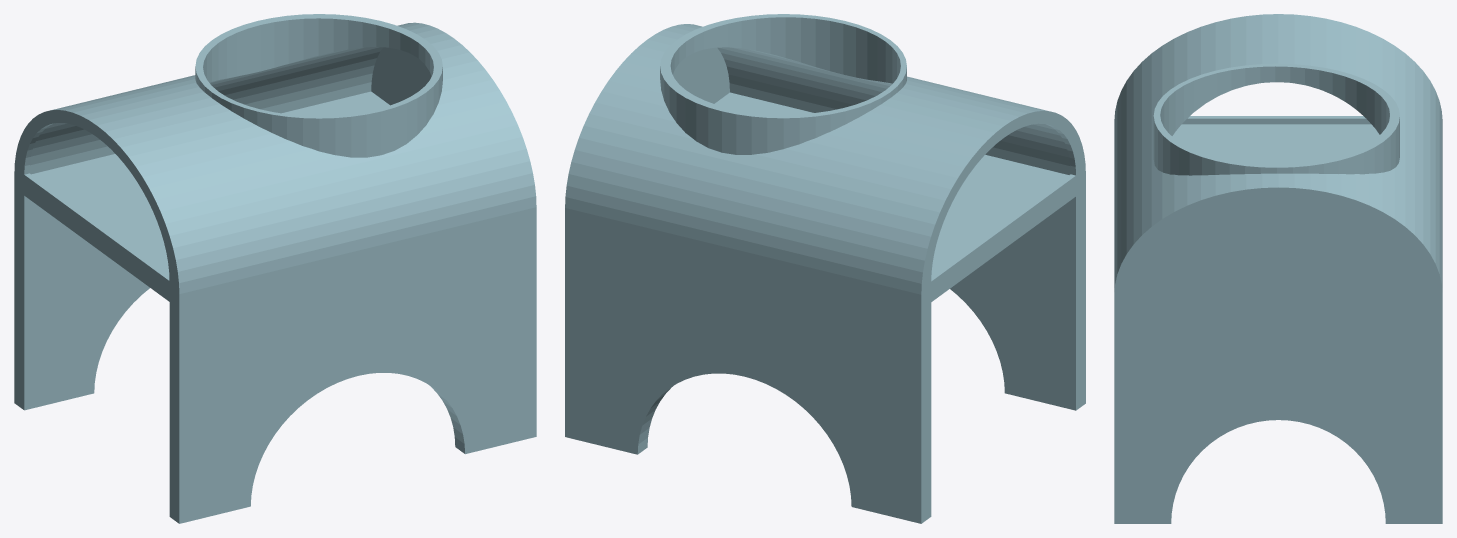
The model's file is R2-P2 Shell.glb.
3 views of the same model, side by side, from view 1: azimuth 30°, elevation 25°; view 2: azimuth 150°, elevation 25°; view 3: azimuth 270°, elevation 25° (orthographic).
Visible parts, largest first — view 1: Mesh_Mesh_head_geo.001_lambert2SG.001; view 2: Mesh_Mesh_head_geo.001_lambert2SG.001; view 3: Mesh_Mesh_head_geo.001_lambert2SG.001.
Boxes of the visible parts, x1=… form: Mesh_Mesh_head_geo.001_lambert2SG.001: x1=14, y1=14, x2=536, y2=523; Mesh_Mesh_head_geo.001_lambert2SG.001: x1=565, y1=14, x2=1085, y2=523; Mesh_Mesh_head_geo.001_lambert2SG.001: x1=1114, y1=14, x2=1442, y2=523.
Bounding box in the file's own units: 0.125 × 0.115 × 0.1.
